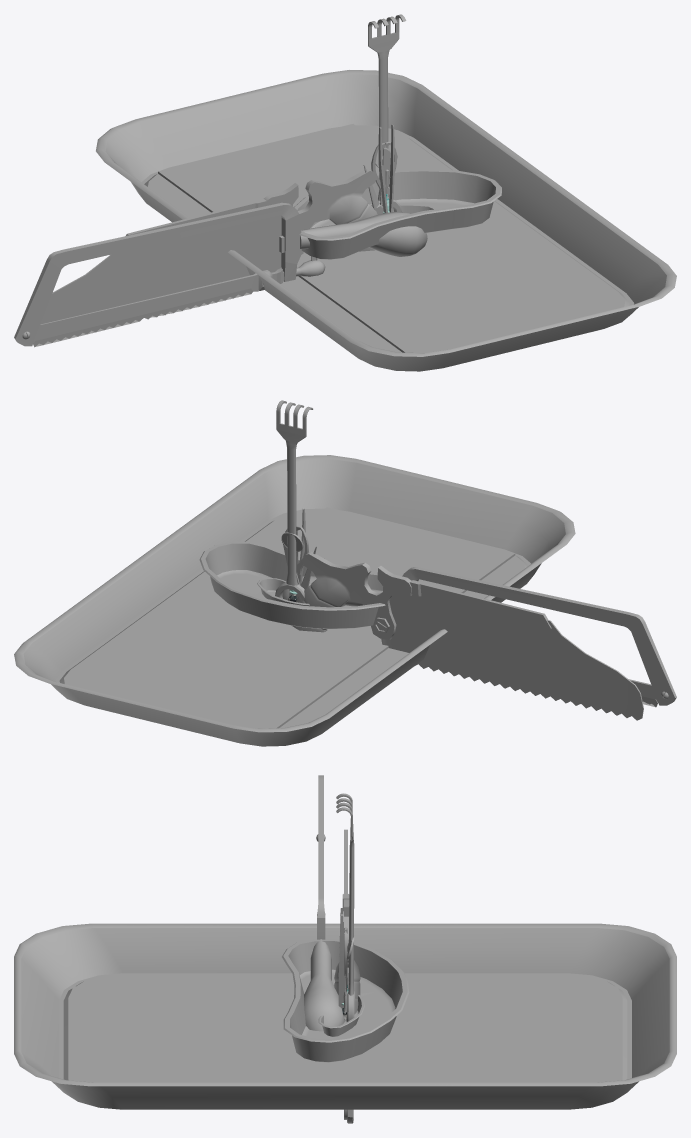
File: Surgical_instruments.fbx
3 views of the same model, one above another, from view 1: azimuth 30°, elevation 25°; view 2: azimuth 150°, elevation 25°; view 3: azimuth 270°, elevation 25° (orthographic). The views are drawn at different scales.
Parts seen in each view (by area): view 1: Tray, Napkin, Surgical_saw_02, Surgical_saw_01, Tray1, Surgical_hook, Forceps; view 2: Tray, Napkin, Surgical_saw_02, Tray1, Surgical_saw_01, Surgical_hook; view 3: Tray, Napkin, Tray1, Surgical_saw_01, Surgical_hook, Surgical_saw_02, Forceps, Tray2.
Boxes of the visible parts, box(x1,y1,x2,y2) form: Tray: box(96, 70, 676, 371); Napkin: box(158, 124, 608, 352); Surgical_saw_02: box(41, 168, 377, 324); Surgical_saw_01: box(14, 202, 427, 347); Tray1: box(294, 169, 501, 259); Surgical_hook: box(368, 14, 405, 211); Forceps: box(378, 124, 394, 212); Tray: box(14, 455, 575, 746); Napkin: box(80, 507, 515, 728); Surgical_saw_02: box(291, 552, 643, 720); Tray1: box(199, 541, 385, 629); Surgical_saw_01: box(282, 567, 676, 707); Surgical_hook: box(275, 400, 313, 601); Tray: box(14, 923, 676, 1109); Napkin: box(72, 986, 618, 1082); Tray1: box(282, 938, 409, 1062); Surgical_saw_01: box(304, 775, 344, 1031); Surgical_hook: box(336, 793, 354, 1123); Surgical_saw_02: box(334, 829, 360, 1014); Forceps: box(338, 908, 345, 1008); Tray2: box(318, 984, 364, 1036).
Size of the model in its own units: 0.00708 by 0.00383 by 0.00718.
